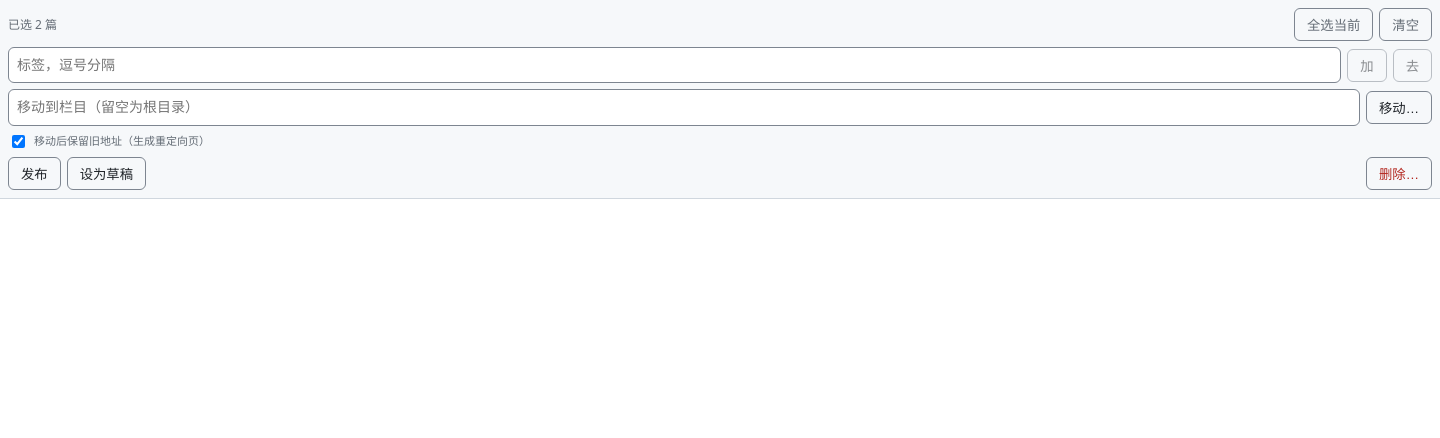
Test: BatchBar › 一篇都不会变时不让确认：那次操作什么也不会发生
This screenshot has width=1440, height=438.
What coordinates should you click on to do the following:
click the button "移动…"
I would click on:
 (1399, 108)
Its box is [1366,91,1432,124].
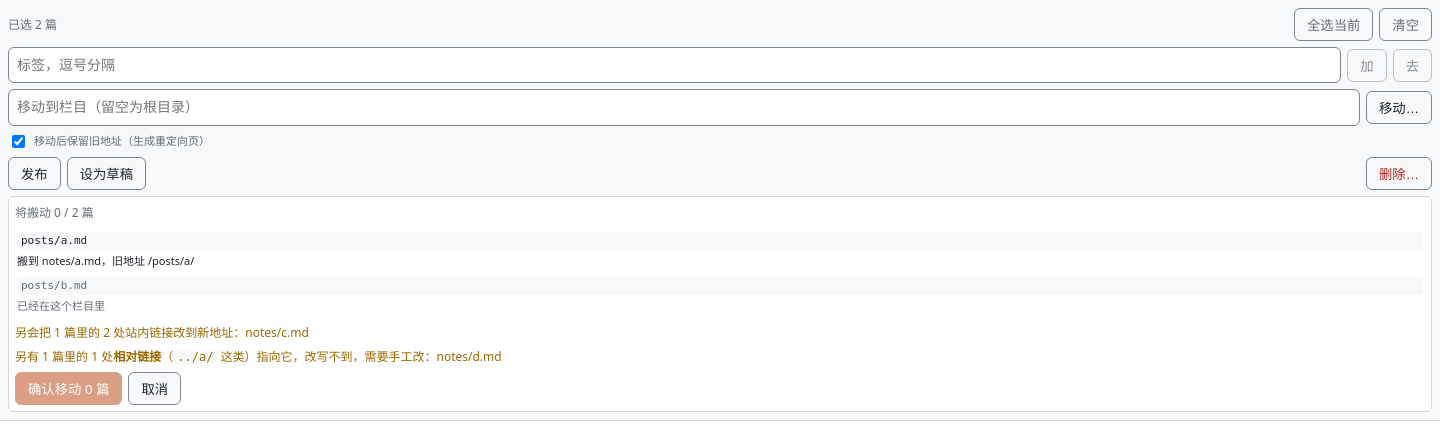
Expected: the button "确认移动 0 篇" is disabled, [15,372,122,405]
